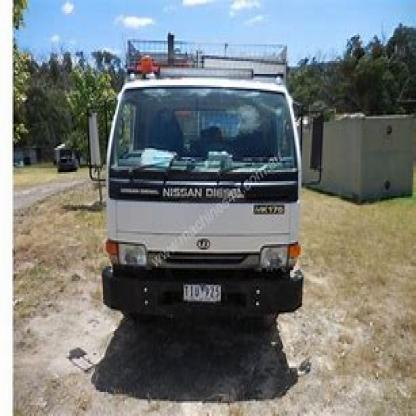dump_truck: (82, 27, 334, 335)
